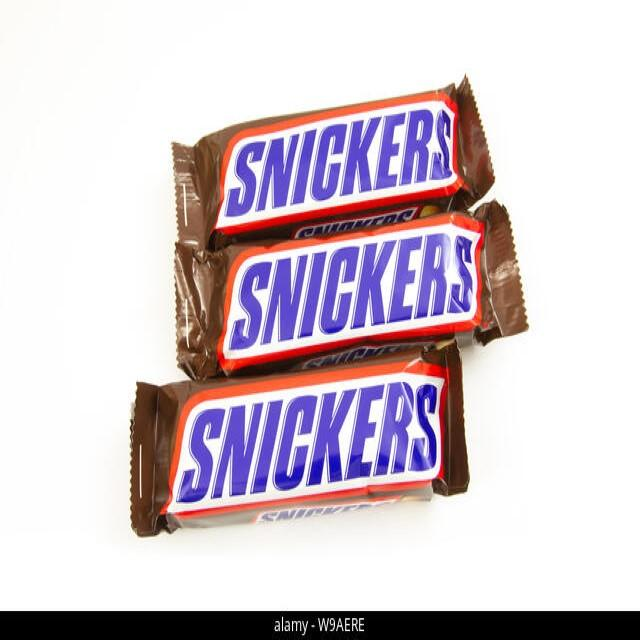snickers_chocolate: (175, 193, 562, 347), (114, 385, 454, 492), (125, 115, 497, 195)
